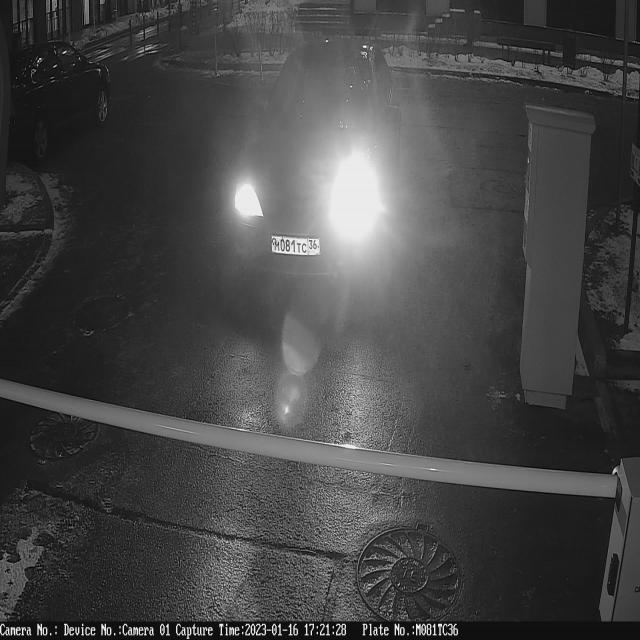car-plate-numbers: (270, 230, 324, 263)
